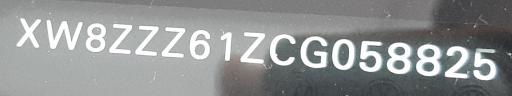letter: (43, 17, 83, 49), (298, 34, 330, 70), (238, 29, 268, 67), (471, 44, 499, 82), (414, 42, 442, 78), (442, 42, 470, 78), (385, 41, 413, 75), (268, 31, 296, 65), (133, 22, 159, 58), (160, 24, 186, 60), (186, 28, 212, 62), (330, 36, 356, 70), (16, 13, 40, 49), (358, 39, 382, 73), (108, 22, 132, 56), (84, 21, 106, 51), (215, 28, 233, 64)
